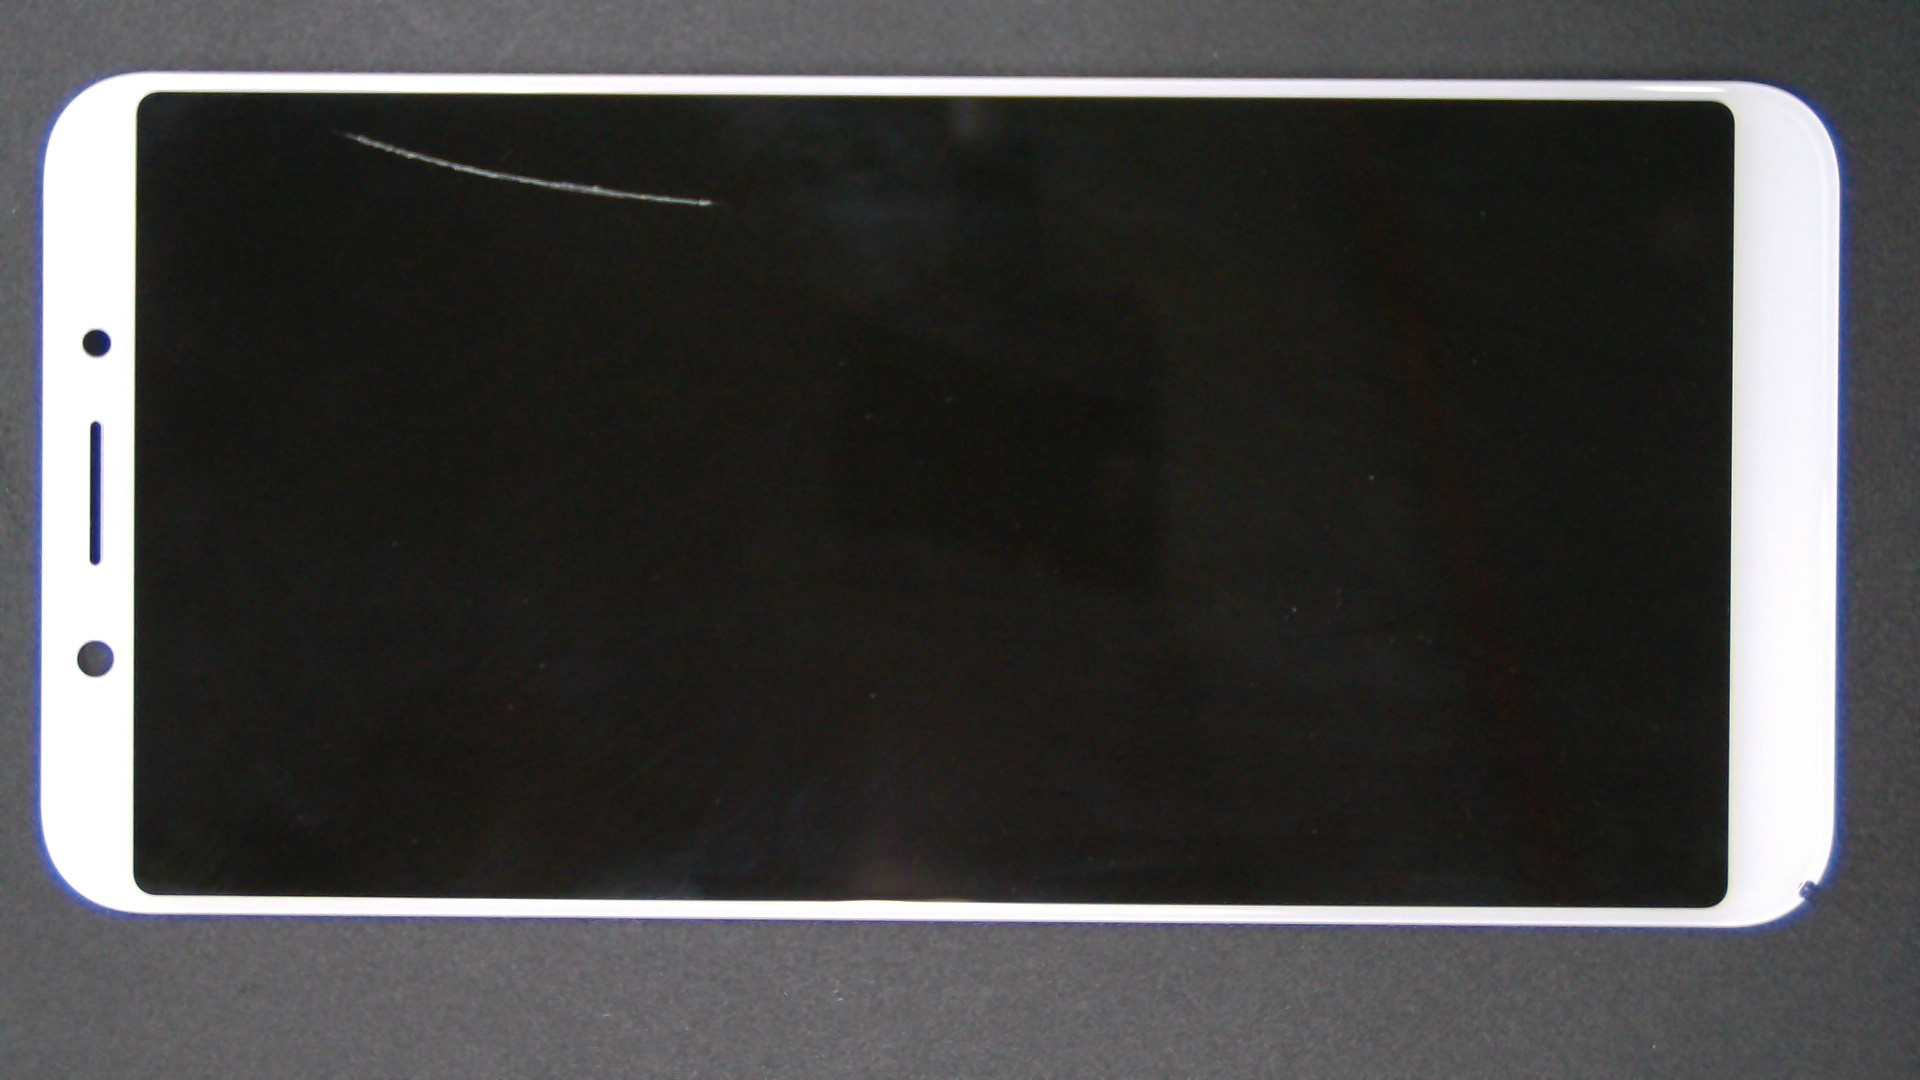oil: (174, 66, 521, 200)
